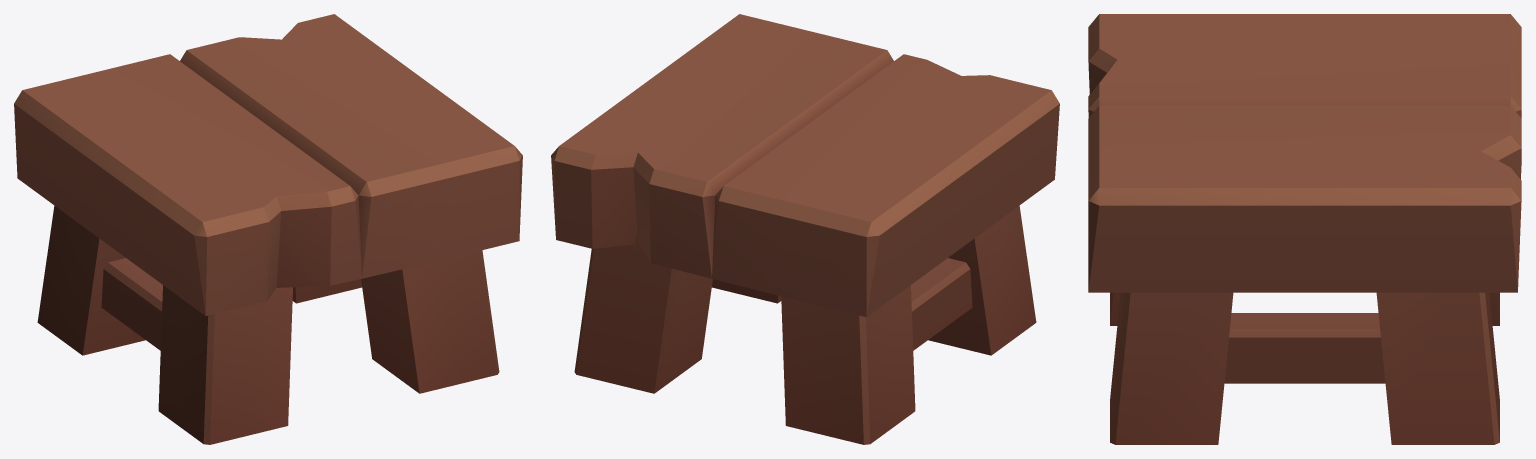
File: fw_stool_oak.glb
3 renders of one model, left to right at view 1: azimuth 30°, elevation 25°; view 2: azimuth 150°, elevation 25°; view 3: azimuth 270°, elevation 25°, orthographic. The views are drawn at different scales.
Visible parts, largest first — view 1: body; view 2: body; view 3: body.
Part boxes in pixels (<box>): body: <box>14,14,522,444</box>; body: <box>551,14,1059,444</box>; body: <box>1088,14,1521,444</box>.
Size of the model in its own units: 0.5625 by 0.375 by 0.5625.
